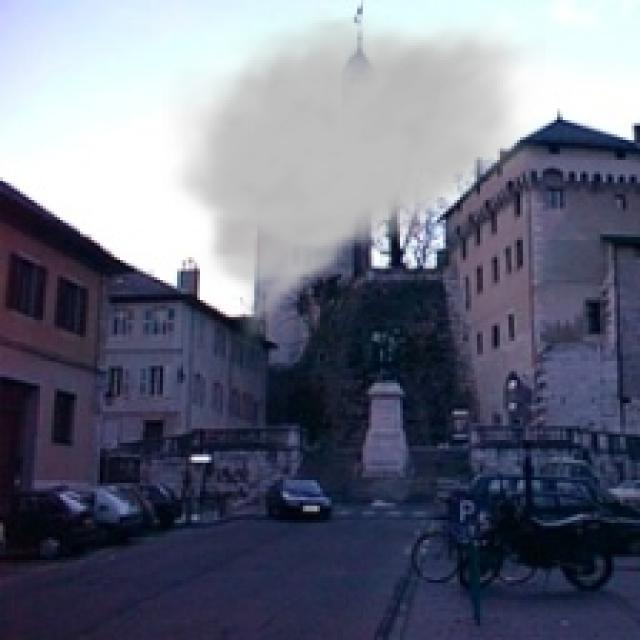Smoke: (163, 8, 546, 354)
